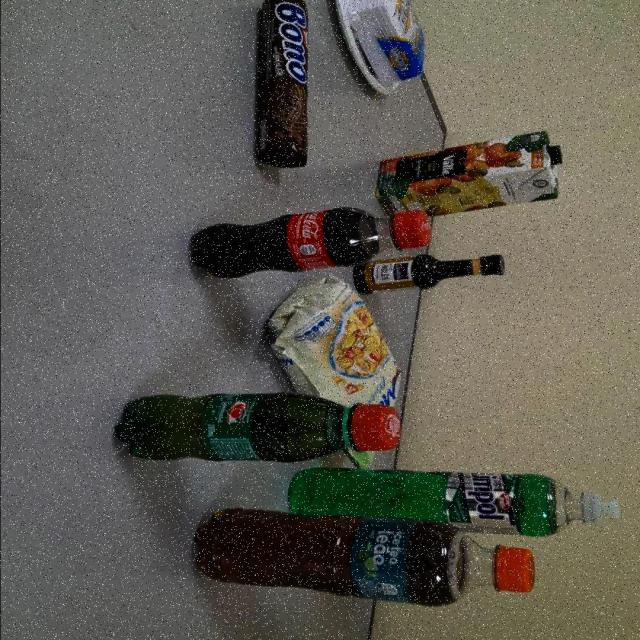Cleaner: (285, 467, 619, 537)
Coke: (188, 209, 429, 280)
Cookies: (252, 0, 307, 169)
CornFlakes: (266, 274, 400, 408)
EnglishSauce: (355, 255, 505, 292)
Guarana: (112, 394, 400, 462)
IceTea: (193, 508, 534, 607)
